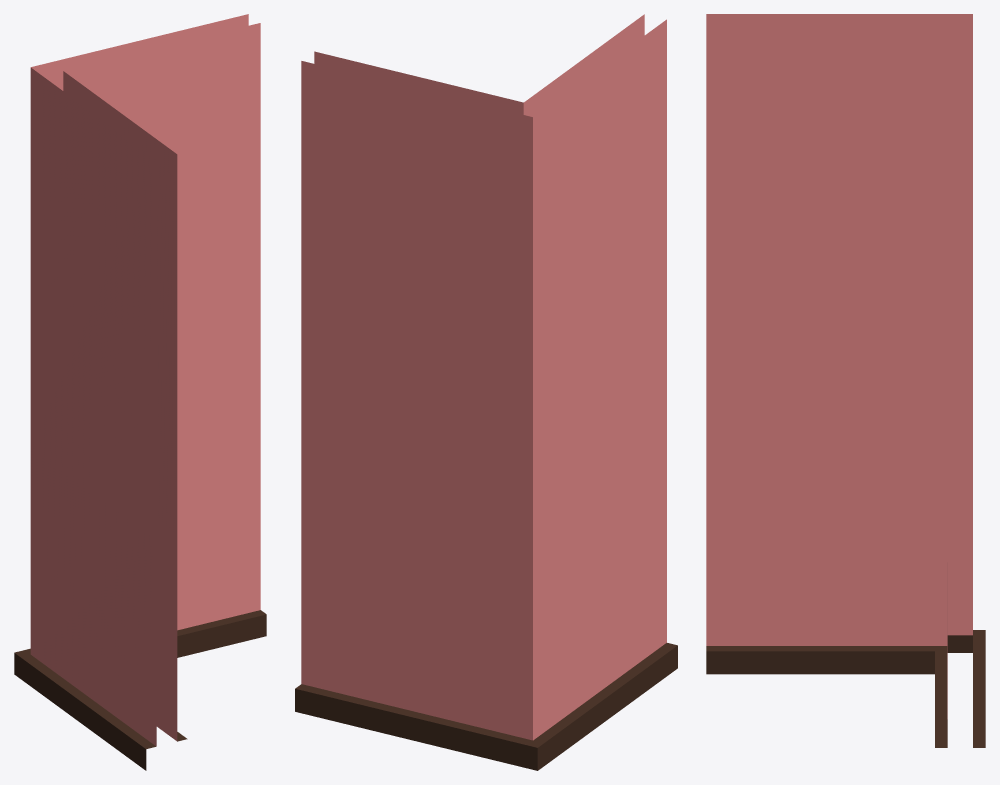
File: SM_Coin_Int_Double_1x1.fbx
3 renders of one model, left to right at view 1: azimuth 30°, elevation 25°; view 2: azimuth 150°, elevation 25°; view 3: azimuth 270°, elevation 25°, orthographic. The views are drawn at different scales.
Visible parts, largest first — view 1: SM_Coin_Int_Double_1x1; view 2: SM_Coin_Int_Double_1x1; view 3: SM_Coin_Int_Double_1x1.
Boxes of the visible parts, x1,y1,x2,y2 form: SM_Coin_Int_Double_1x1: (14, 14, 266, 770); SM_Coin_Int_Double_1x1: (295, 14, 677, 770); SM_Coin_Int_Double_1x1: (706, 14, 985, 747).
Bounding box in the file's own units: 1.1 × 2.8 × 1.1.
